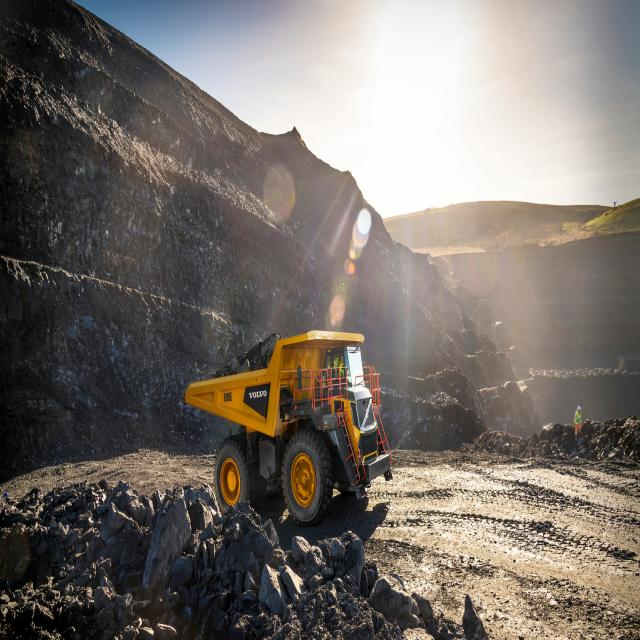dump_truck: (188, 312, 402, 534)
